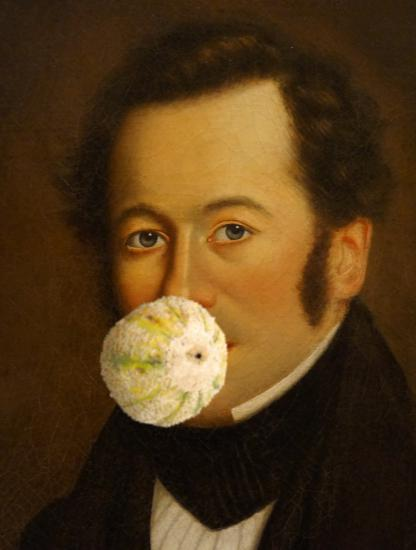Cantaloupe: (100, 295, 233, 428)
